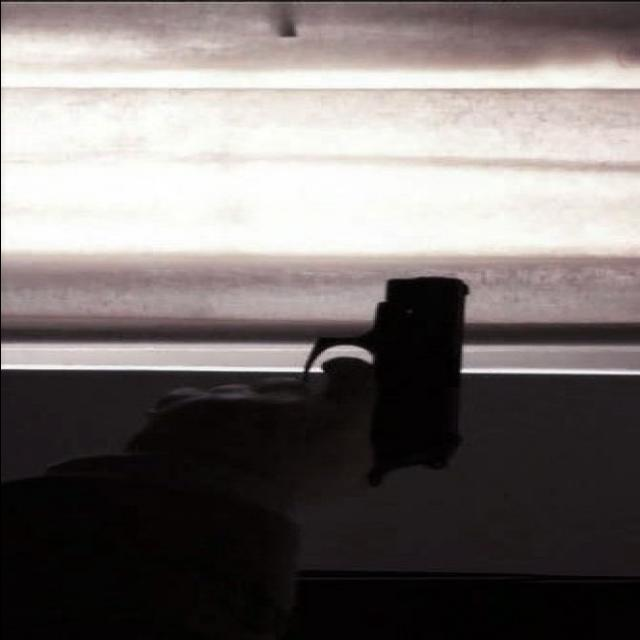weapons: (199, 264, 510, 492)
